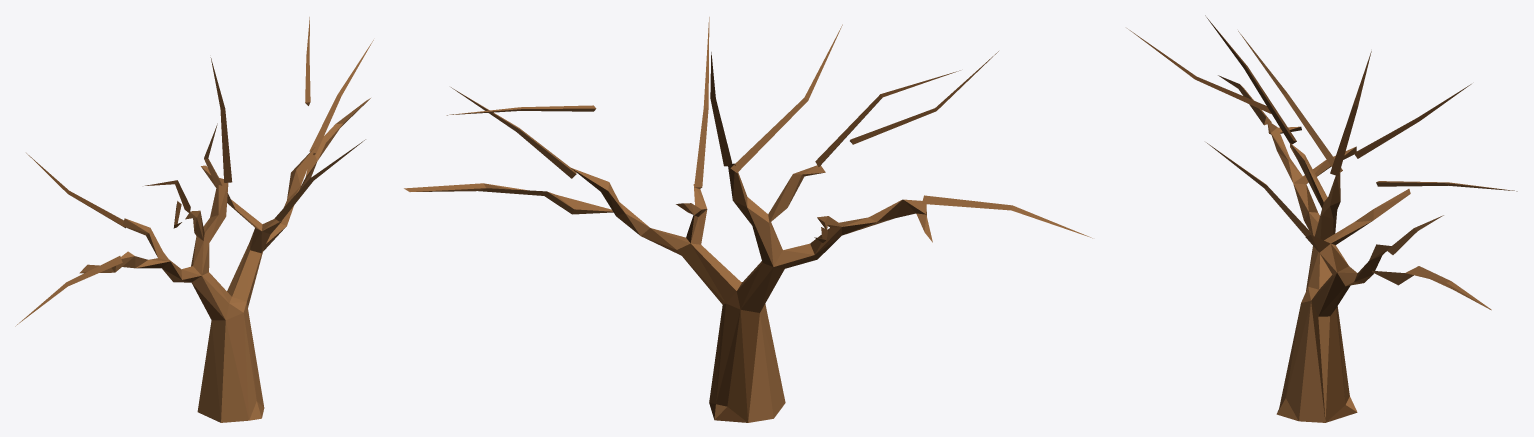
File: acacia_bare_far.glb
3 renders of one model, left to right at view 1: azimuth 30°, elevation 25°; view 2: azimuth 150°, elevation 25°; view 3: azimuth 270°, elevation 25°, orthographic. The views are drawn at different scales.
Visible parts, largest first — view 1: acacia_bare_far; view 2: acacia_bare_far; view 3: acacia_bare_far.
Part boxes in pixels (x1,y1,x2,y2): acacia_bare_far: (15, 17, 373, 422); acacia_bare_far: (404, 17, 1092, 422); acacia_bare_far: (1127, 15, 1517, 422).
Bounding box in the file's own units: 9.95 × 6.54 × 6.48.
